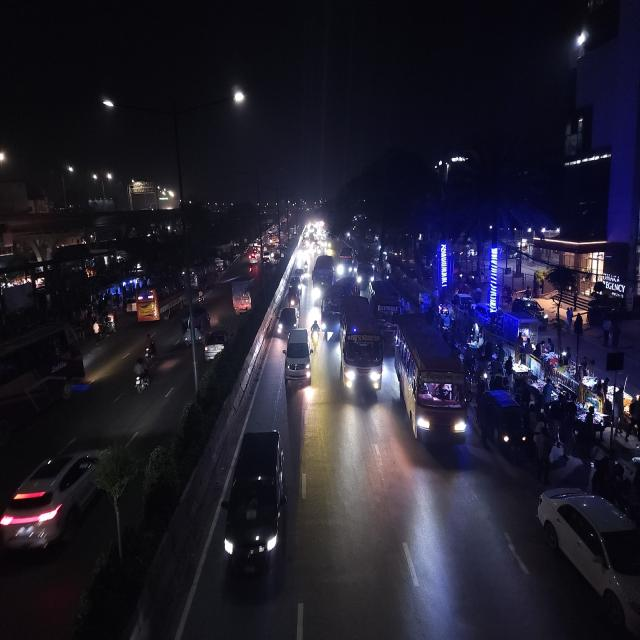bus: (394, 315, 469, 458), (0, 322, 86, 414), (336, 294, 386, 402), (136, 282, 184, 325), (370, 279, 402, 322), (311, 253, 334, 306), (191, 265, 219, 286), (337, 246, 354, 278)
car: (533, 483, 640, 639), (0, 431, 114, 564), (219, 424, 289, 593), (284, 325, 313, 389), (320, 288, 341, 342), (203, 326, 229, 364), (274, 304, 298, 338)
cng: (476, 385, 529, 465), (288, 287, 300, 310)
motorcycle: (132, 356, 152, 396), (142, 335, 159, 364), (310, 319, 322, 354), (196, 291, 205, 304), (248, 264, 253, 275)
pedestrian: (530, 422, 556, 482)
truck: (230, 276, 258, 318)
